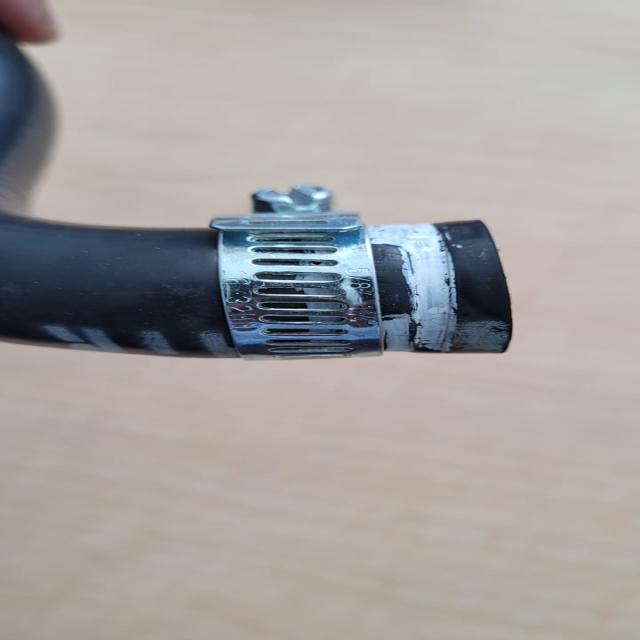clamp: (206, 186, 388, 360)
pipe: (371, 224, 507, 355)
